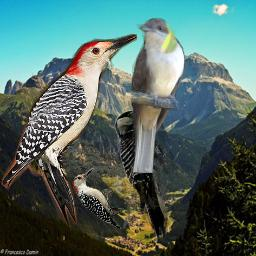Cuckoo: (128, 18, 185, 173)
Woodpecker: (0, 34, 137, 228), (114, 108, 180, 243), (72, 168, 125, 229)
